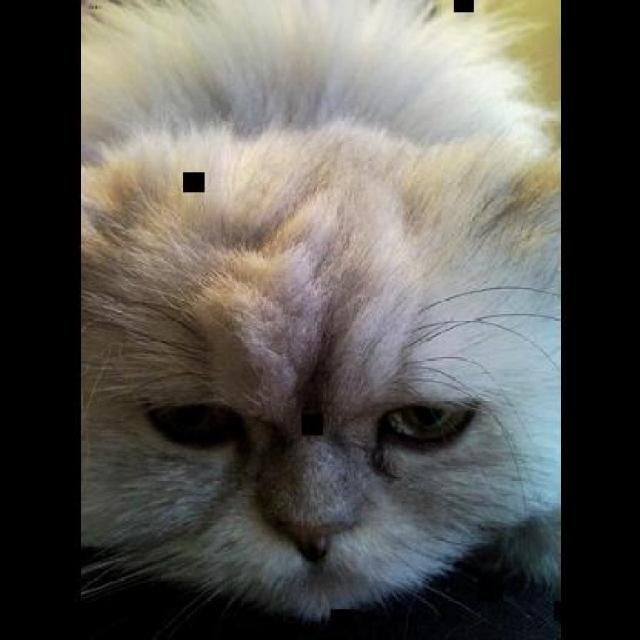unauthorized: (77, 0, 558, 625)
